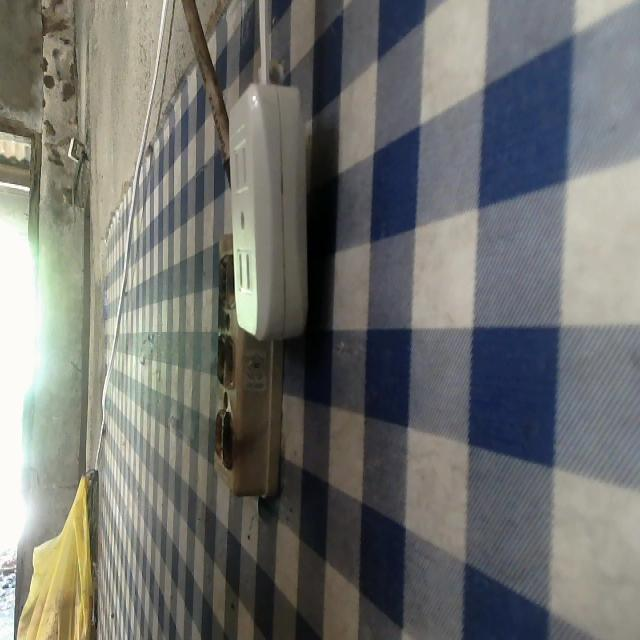-: (209, 328, 244, 392), (214, 247, 238, 310), (218, 406, 239, 471)
